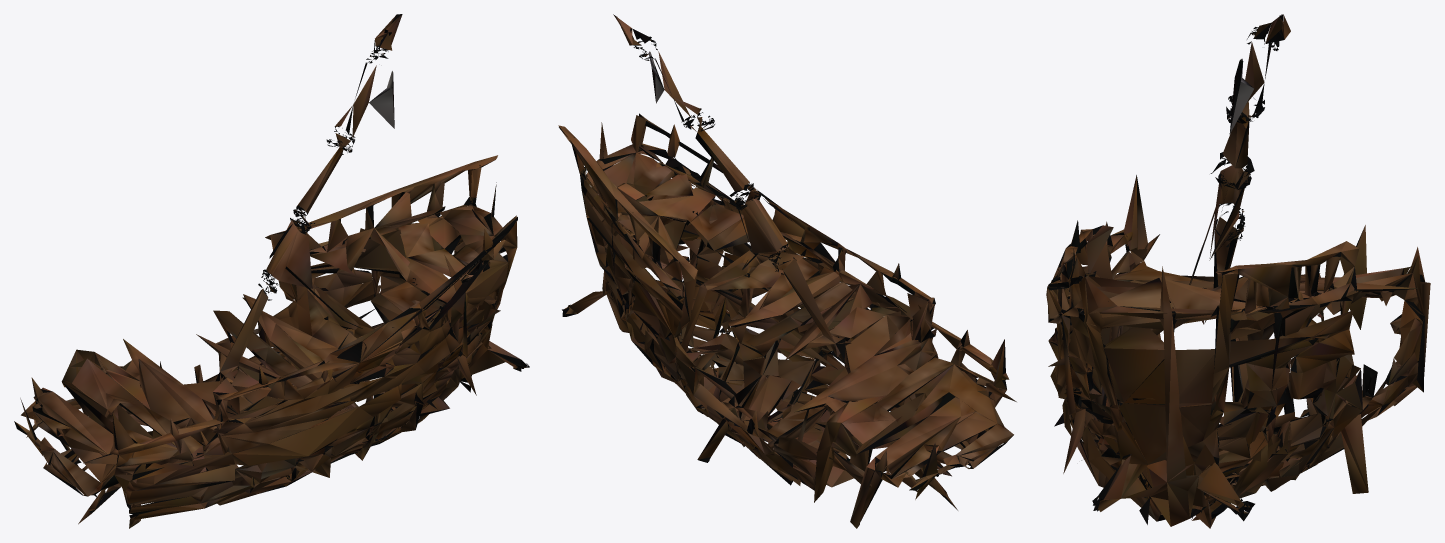
File: wreck.tex.glb
The picture shows the model from 3 angles, left to right: view 1: azimuth 30°, elevation 25°; view 2: azimuth 150°, elevation 25°; view 3: azimuth 270°, elevation 25°; orthographic projection. The views are drawn at different scales.
Visible parts, largest first — view 1: wreck; view 2: wreck; view 3: wreck.
Boxes of the visible parts, bbox=[...] form: wreck: bbox=[14, 14, 529, 528]; wreck: bbox=[558, 14, 1016, 528]; wreck: bbox=[1046, 14, 1430, 528].
Bounding box in the file's own units: 13.56 × 12.51 × 7.31.
Materials: 1 (1 with a texture image).
